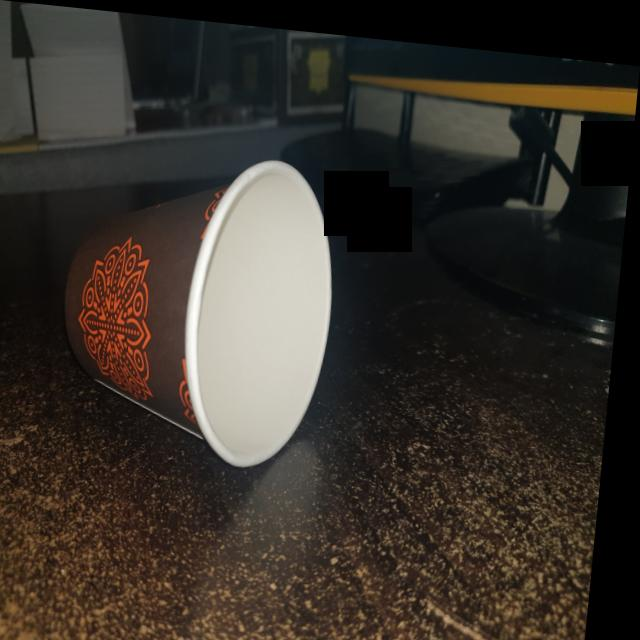cups: (53, 131, 353, 483)
